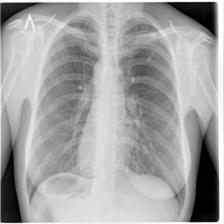tuberculosis: (19, 14, 190, 218)
